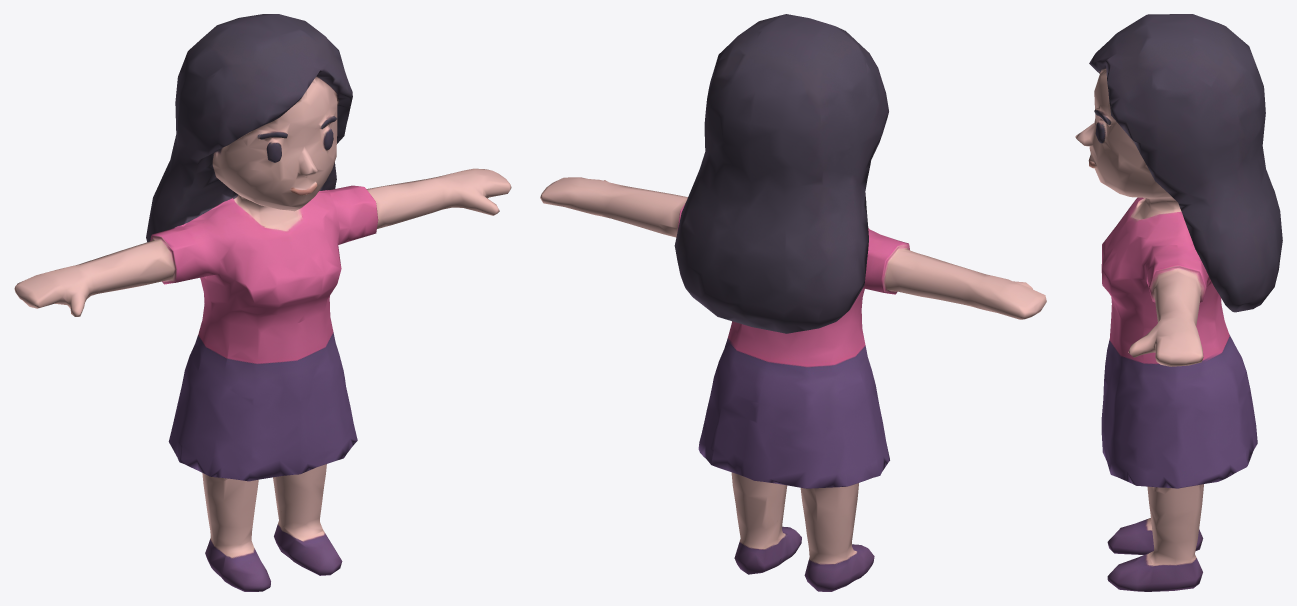
Rendered from customer_b_front.glb.
3 views of the same model, side by side, from view 1: azimuth 30°, elevation 25°; view 2: azimuth 150°, elevation 25°; view 3: azimuth 270°, elevation 25° (orthographic).
Parts seen in each view (by area): view 1: tripo_node_5c4a4c86-90c1-4aa7-a32a-134891f40815; view 2: tripo_node_5c4a4c86-90c1-4aa7-a32a-134891f40815; view 3: tripo_node_5c4a4c86-90c1-4aa7-a32a-134891f40815.
Boxes of the visible parts, x1,y1,x2,y2 form: tripo_node_5c4a4c86-90c1-4aa7-a32a-134891f40815: (14,14,511,591); tripo_node_5c4a4c86-90c1-4aa7-a32a-134891f40815: (540,14,1046,591); tripo_node_5c4a4c86-90c1-4aa7-a32a-134891f40815: (1075,14,1282,591).
Bounding box in the file's own units: 0.9399 × 1 × 0.3459.
1 material, 1 textured.
